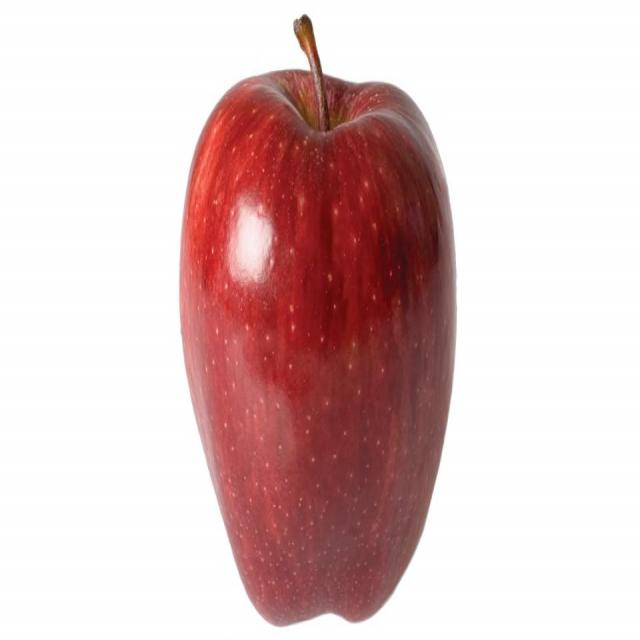Apple: (172, 15, 468, 629)
